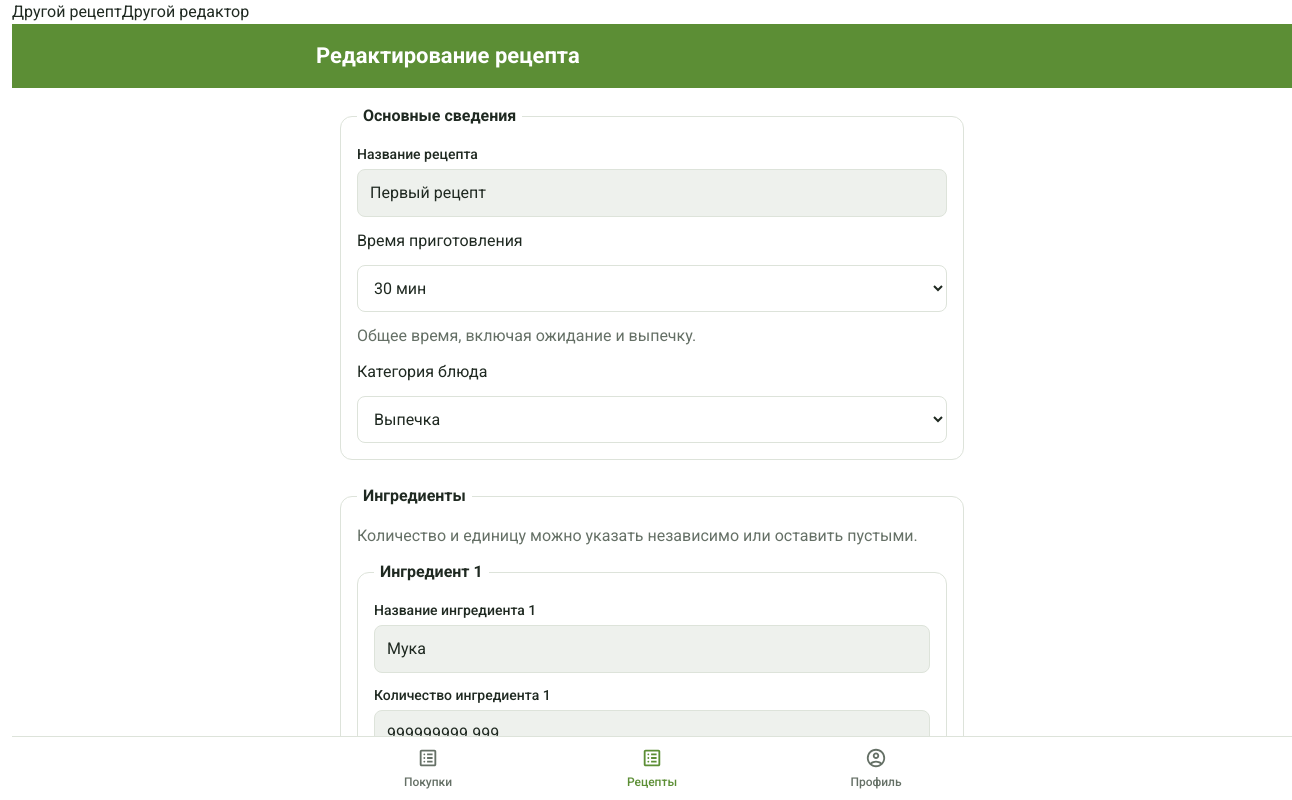
Демонстрационный клиент рецептов › заменяет рецепт через PUT без ID/позиций в теле
Replace the text in the field labelled "Название рецепта" with "Правка" at (652, 193), box [357, 169, 947, 217]
(page scrolled)
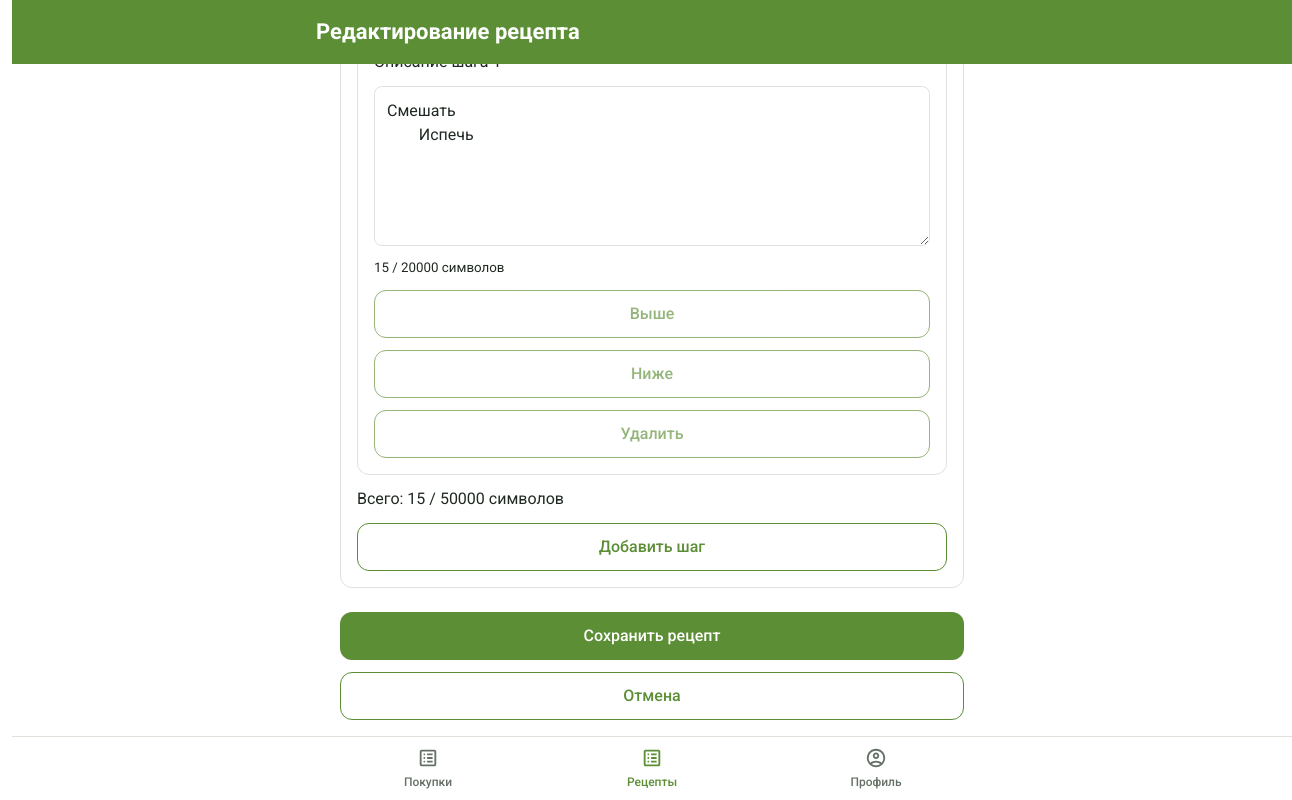
Click the button "Сохранить рецепт" at (652, 636), box [340, 612, 964, 660]
(page scrolled)
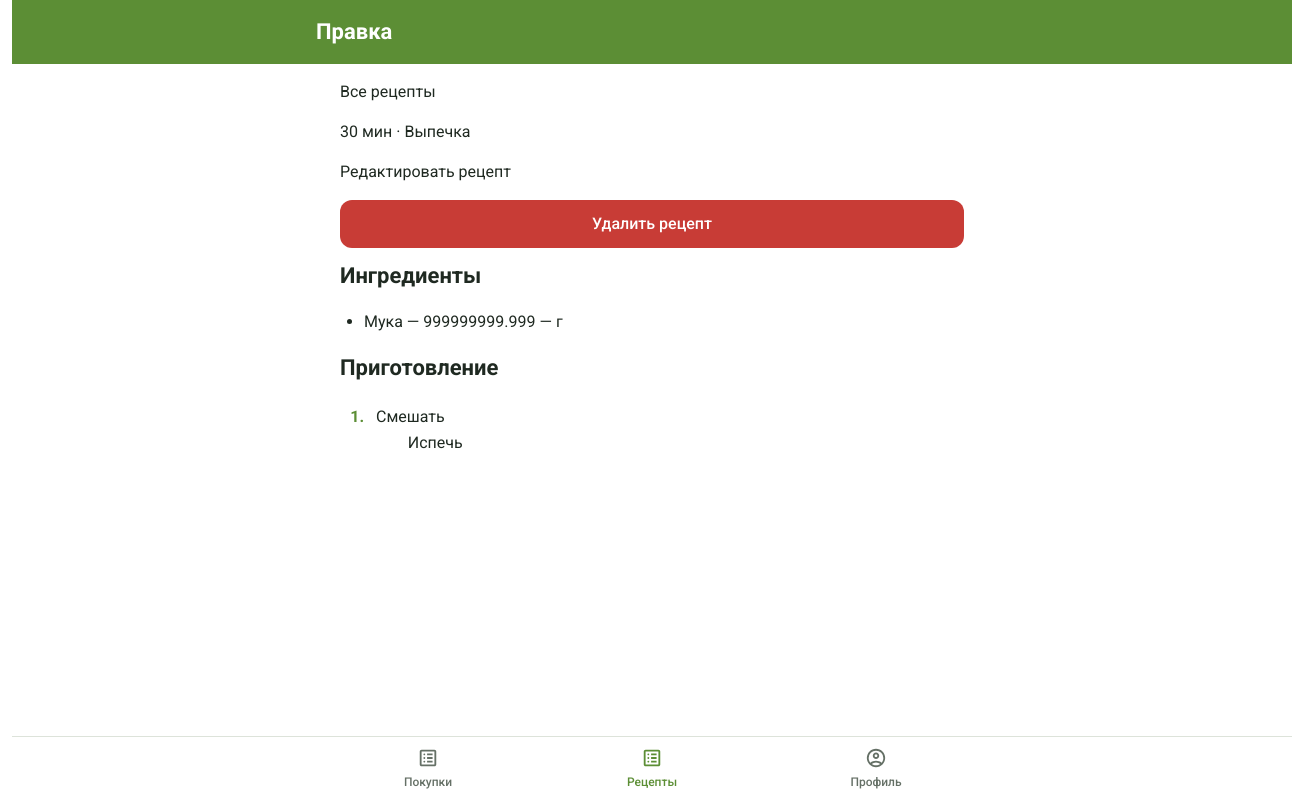
Expected: the heading "Правка" is shown, [316, 18, 392, 46]
